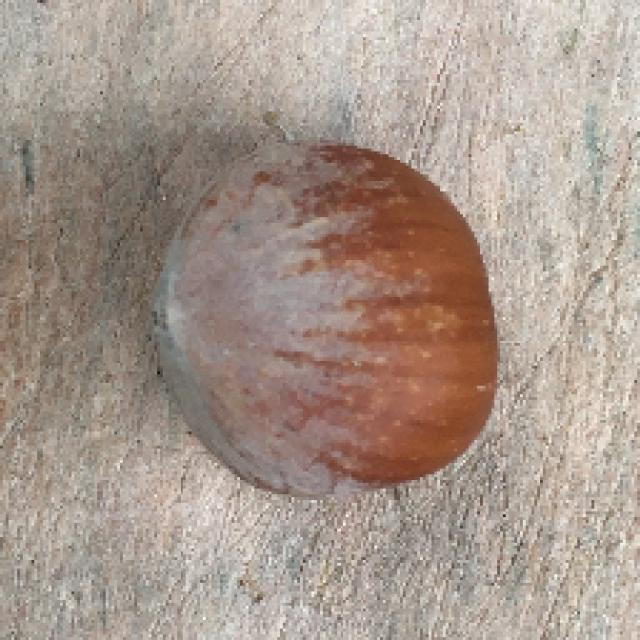qualityHazelnut: (143, 138, 504, 506)
